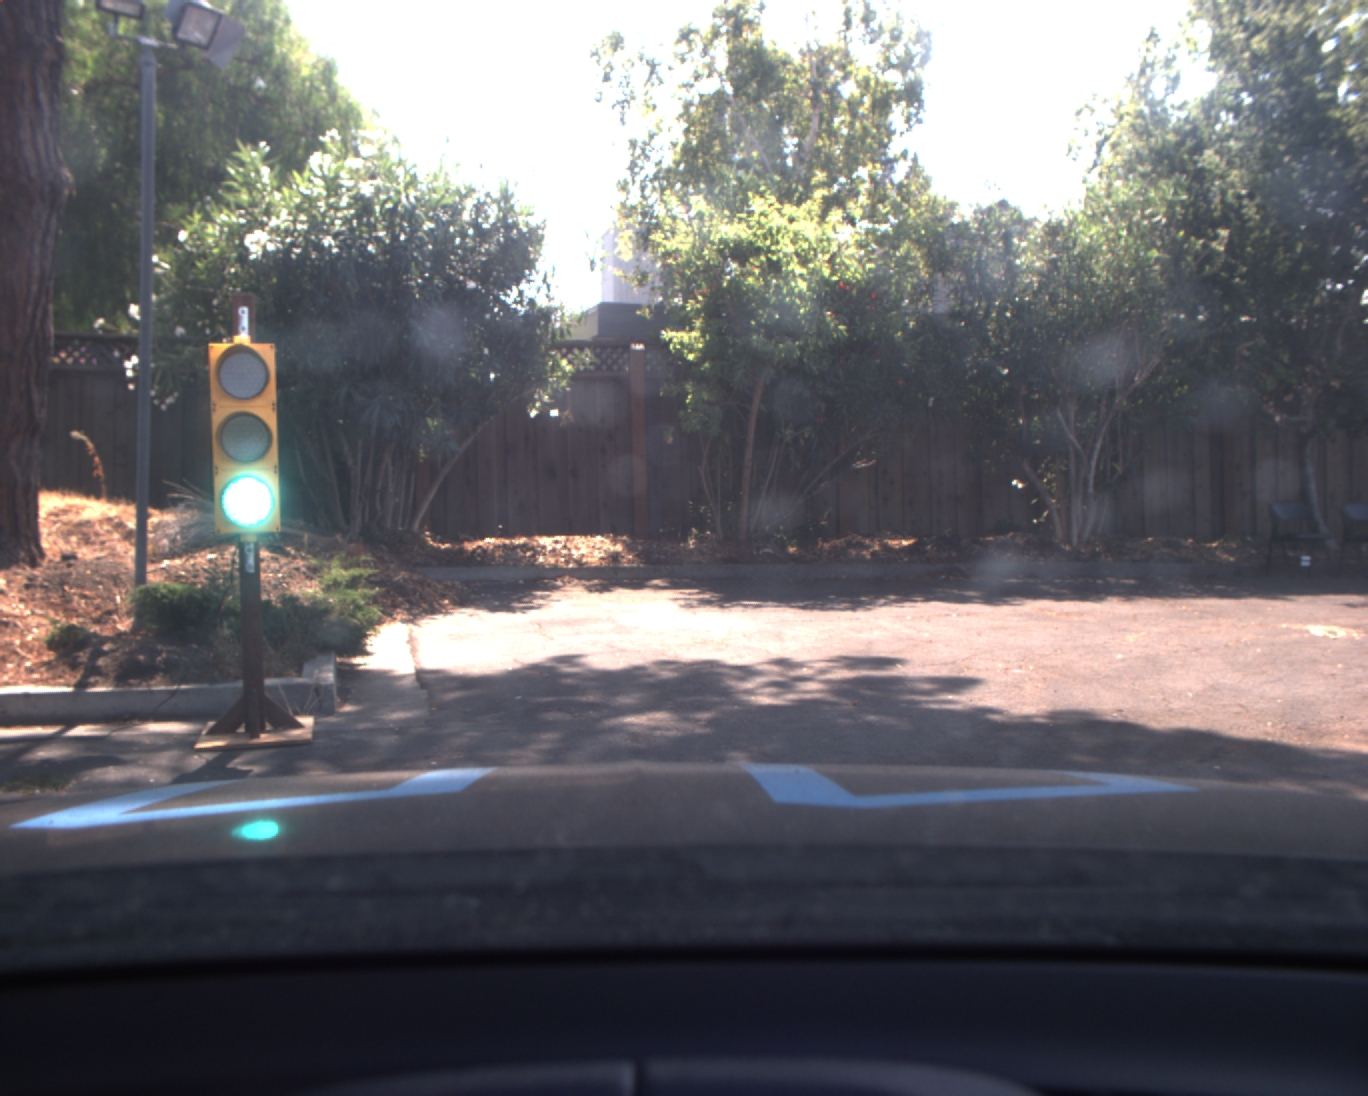green: (207, 342, 289, 537)
